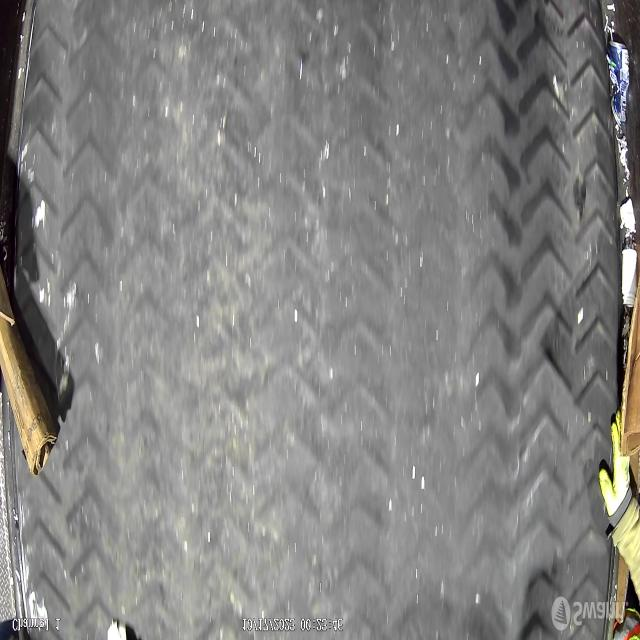can: (606, 38, 630, 126)
